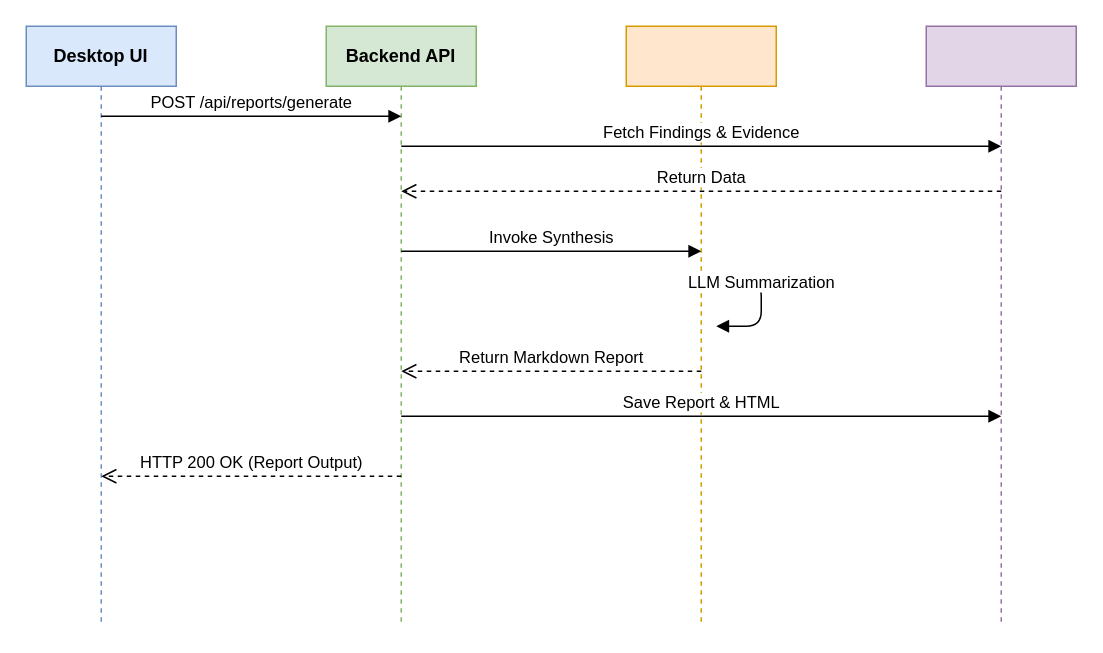
This 1103x653 diagram has some shape labels left out. Here are the shapes that lost their labels. From the top down, the box of each, then its label:
(625, 25, 776, 626): Report Generator
(925, 25, 1076, 626): Storage Layer
